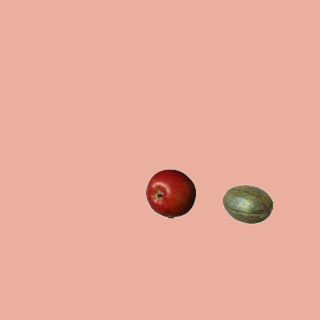Apple Braeburn: (145, 168, 195, 218)
Melon Piel de Sapo: (222, 179, 272, 229)
